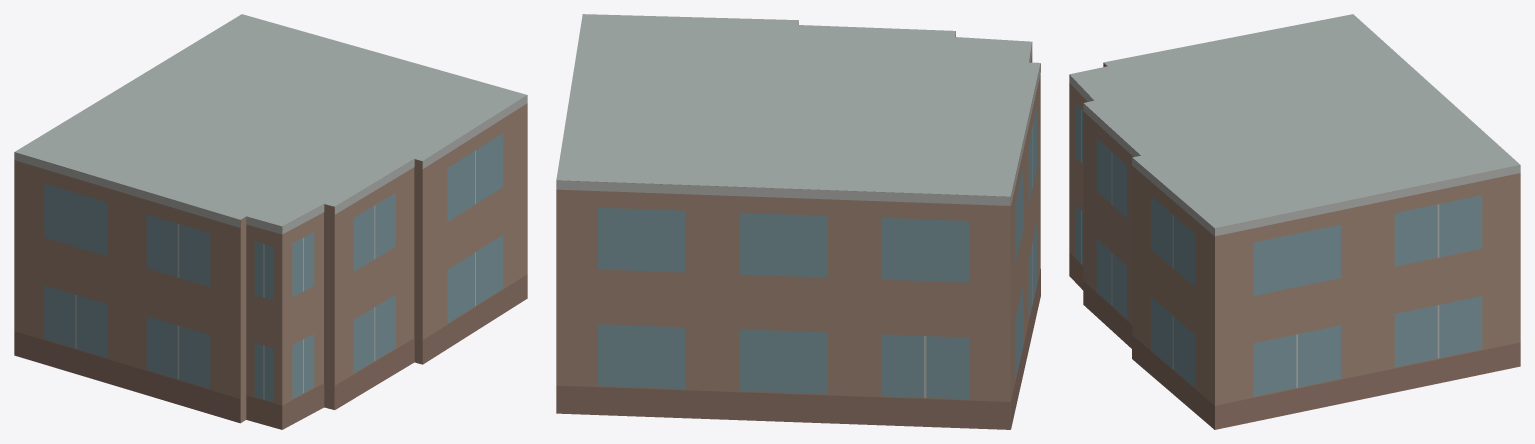
The model's file is survey-upis-33003728.glb.
3 views of the same model, side by side, from view 1: azimuth 30°, elevation 25°; view 2: azimuth 150°, elevation 25°; view 3: azimuth 270°, elevation 25° (orthographic). The views are drawn at different scales.
Parts seen in each view (by area): view 1: survey-upis-33003728.tmp; view 2: survey-upis-33003728.tmp; view 3: survey-upis-33003728.tmp.
Boxes of the visible parts, bbox=[...] form: survey-upis-33003728.tmp: bbox=[14, 14, 527, 429]; survey-upis-33003728.tmp: bbox=[556, 14, 1040, 429]; survey-upis-33003728.tmp: bbox=[1069, 14, 1520, 429].
Size of the model in its own units: 13.92 by 6.1 by 12.39.
